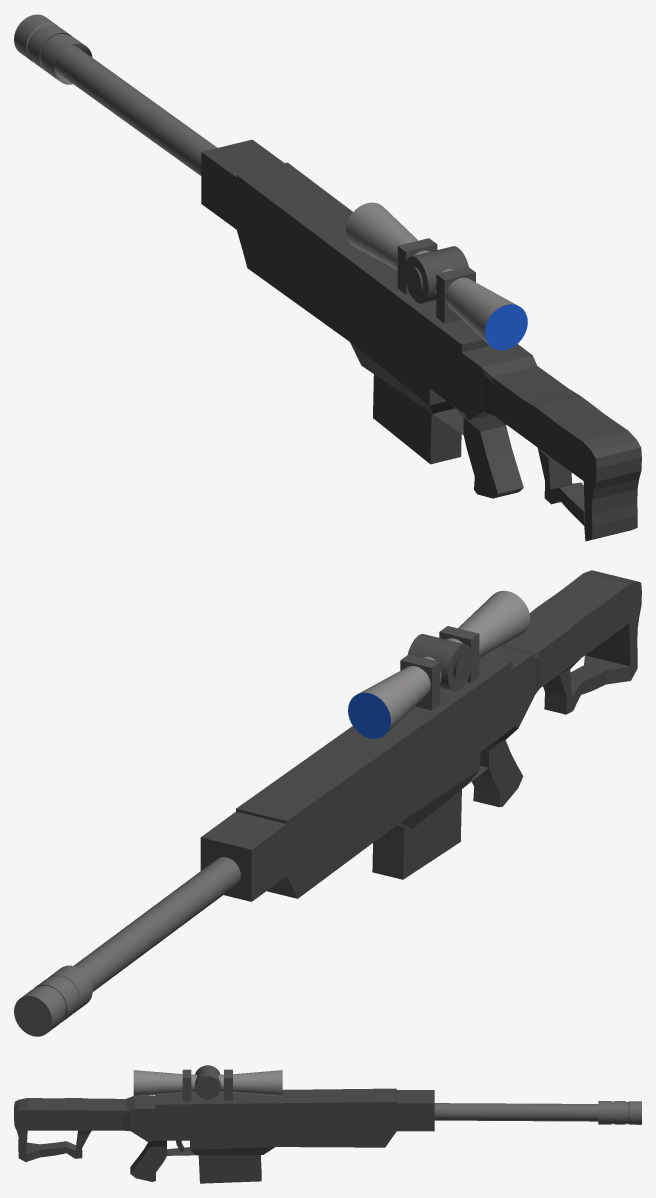
Rendered from Sniper.fbx.
The picture shows the model from 3 angles, top to bottom: view 1: azimuth 30°, elevation 25°; view 2: azimuth 150°, elevation 25°; view 3: azimuth 270°, elevation 25°; orthographic projection. The views are drawn at different scales.
Parts seen in each view (by area): view 1: Cylinder.002; view 2: Cylinder.002; view 3: Cylinder.002.
Part boxes in pixels (left/top/right/bottom): Cylinder.002: left=14, top=14, right=641, bottom=541; Cylinder.002: left=14, top=570, right=641, bottom=1036; Cylinder.002: left=14, top=1065, right=641, bottom=1183.
Size of the model in its own units: 19.37 by 386 by 73.6.
